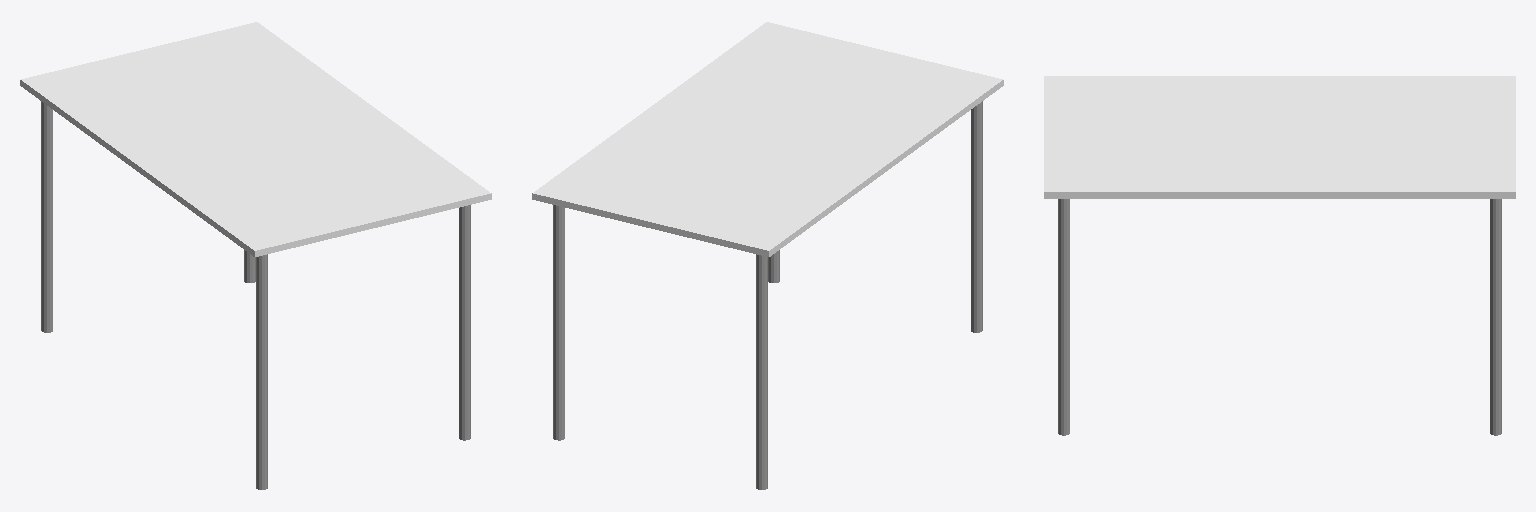
The robot description file, URDF, robot "room602-askul-1200x700-desk-5":
<?xml version="1.0"?>
<robot name="room602-askul-1200x700-desk-5"
       xmlns:xi="http://www.w3.org/2001/XInclude"
       xmlns:gazebo="http://playerstage.sourceforge.net/gazebo/xmlschema/#gz"
       xmlns:model="http://playerstage.sourceforge.net/gazebo/xmlschema/#model"
       xmlns:sensor="http://playerstage.sourceforge.net/gazebo/xmlschema/#sensor"
       xmlns:body="http://playerstage.sourceforge.net/gazebo/xmlschema/#body"
       xmlns:geom="http://playerstage.sourceforge.net/gazebo/xmlschema/#geom"
       xmlns:joint="http://playerstage.sourceforge.net/gazebo/xmlschema/#joint"
       xmlns:interface="http://playerstage.sourceforge.net/gazebo/xmlschema/#interface"
       xmlns:rendering="http://playerstage.sourceforge.net/gazebo/xmlschema/#rendering"
       xmlns:renderable="http://playerstage.sourceforge.net/gazebo/xmlschema/#renderable"
       xmlns:controller="http://playerstage.sourceforge.net/gazebo/xmlschema/#controller"
       xmlns:physics="http://playerstage.sourceforge.net/gazebo/xmlschema/#physics">
  <gazebo>
    <static>false</static>
  </gazebo>
  <link name="nil_link">
    <visual>
      <origin xyz="0 0 0" rpy="0 -0 0"/>
      <geometry>
        <mesh filename="model://room602-askul-1200x700-desk-5/meshes/nil_link_mesh.dae" scale="1 1 1" />
      </geometry>
    </visual>
    <collision>
      <origin xyz="0 0 0" rpy="0 -0 0"/>
      <geometry>
        <mesh filename="model://room602-askul-1200x700-desk-5/meshes/nil_link_mesh.dae" scale="1 1 1" />
      </geometry>
    </collision>
    <inertial>
      <mass value="0.001" />
      <origin xyz="0 0 0" rpy="0 -0 0"/>
      <inertia ixx="1e-09" ixy="0" ixz="0" iyy="1e-09" iyz="0" izz="1e-09"/>
    </inertial>
  </link>
  <gazebo reference="nil_link">
    <mu1>0.9</mu1>
    <mu2>0.9</mu2>
  </gazebo>
</robot>

--- Render facts (derived) ---
The picture shows the robot from 3 angles, left to right: view 1: azimuth 30°, elevation 25°; view 2: azimuth 150°, elevation 25°; view 3: azimuth 270°, elevation 25°; orthographic projection.
Robot: room602-askul-1200x700-desk-5 — 1 links, 0 joints (none); root link nil_link; default pose: all joints at 0.
Visible links, largest first — view 1: nil_link; view 2: nil_link; view 3: nil_link.
Link boxes in pixels (<box>): nil_link: <box>20,22,491,489</box>; nil_link: <box>532,22,1003,489</box>; nil_link: <box>1044,76,1515,435</box>.
Size in the robot's own frame: 0.7 by 1.2 by 0.7 metres.
1 mesh visuals loaded from 1 distinct referenced files (1 Collada DAE).
